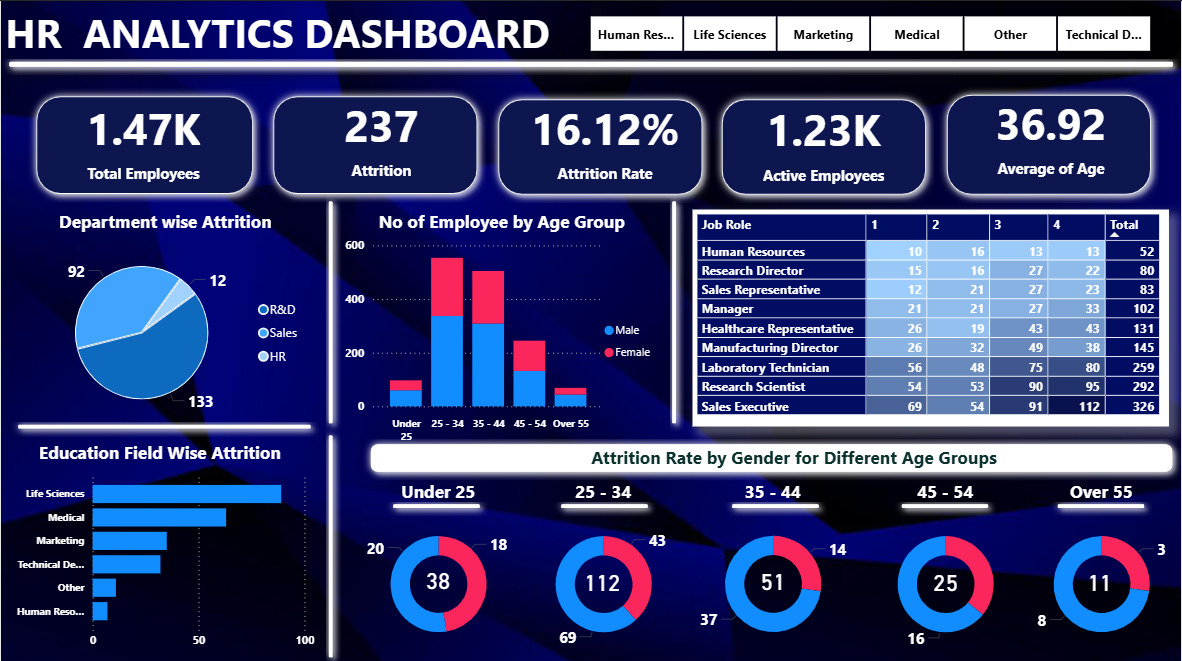

This screenshot's page, from the dashboard's own definition file:
{"tool":"powerbi","page":{"name":"HR Dashboard","canvas":[1280,720],"ordinal":0},"visuals":[{"type":"shape","box":[1017.2,93.3,239.3,126.4],"z":0},{"type":"shape","box":[773.1,97.5,239.3,121.5],"z":1000},{"type":"shape","box":[529.6,98.2,239.3,121.5],"z":2000},{"type":"shape","box":[285.9,94.5,239.3,123.9],"z":3000},{"type":"shape","box":[29,94.5,252.8,123.9],"z":4000},{"type":"cardVisual","fields":{"Data":["Sum(HR data.Employee Count)"]},"box":[38,85.9,234.4,131.3],"z":5000},{"type":"cardVisual","fields":{"Data":["Sum(HR data.Attrition Count)"]},"box":[326.4,81,171.8,133.7],"z":6000},{"type":"cardVisual","fields":{"Data":["HR data.Attrition Rate"]},"box":[547.2,85.9,217.2,130.1],"z":7000},{"type":"cardVisual","fields":{"Data":["HR data.Active Employees"]},"box":[782.8,85.9,219.6,133.7],"z":8000},{"type":"cardVisual","fields":{"Data":["Avg(HR data.Age)"]},"box":[1029.5,83.4,218.4,125.2],"z":9000},{"type":"pieChart","title":"Department wise Attrition","fields":{"Category":["HR data.Department"],"Y":["Sum(HR data.Attrition Count)"]},"box":[20.9,225.8,314.1,241.7],"z":10000},{"type":"columnChart","title":"No of Employee by Age Group","fields":{"Category":["HR data.CF_age band"],"Y":["Sum(HR data.Employee Count)"],"Series":["HR data.Gender"]},"box":[368.1,225.8,350.9,260.1],"z":11000},{"type":"pivotTable","fields":{"Rows":["HR data.Job Role"],"Columns":["HR data.Job Satisfaction"],"Values":["Sum(HR data.Employee Count)"]},"box":[749.7,225.8,516.6,235.6],"z":12000},{"type":"barChart","title":"Education Field Wise Attrition","fields":{"Category":["HR data.Education Field"],"Y":["Sum(HR data.Attrition Count)"]},"box":[0,477.3,344.8,234.4],"z":13000},{"type":"donutChart","title":"Under 25","fields":{"Category":["HR data.Gender"],"Y":["Sum(HR data.Attrition Count)"],"Series":["HR data.CF_age band"]},"box":[386.9,518.7,174.2,201.5],"z":14000},{"type":"donutChart","title":"25 - 34","fields":{"Category":["HR data.Gender"],"Y":["Sum(HR data.Attrition Count)"],"Series":["HR data.CF_age band"]},"box":[566.7,518.7,174.3,201.7],"z":15000},{"type":"donutChart","title":"35 - 44","fields":{"Category":["HR data.Gender"],"Y":["Sum(HR data.Attrition Count)"],"Series":["HR data.CF_age band"]},"box":[749.7,519,174.2,201.2],"z":16000},{"type":"donutChart","title":"45 - 54","fields":{"Category":["HR data.Gender"],"Y":["Sum(HR data.Attrition Count)"],"Series":["HR data.CF_age band"]},"box":[937.2,518.7,174.3,201.7],"z":17000},{"type":"donutChart","title":"Over 55","fields":{"Category":["HR data.Gender"],"Y":["Sum(HR data.Attrition Count)"],"Series":["HR data.CF_age band"]},"box":[1106,518.7,174.3,201.7],"z":18000},{"type":"card","fields":{"Values":["Sum(HR data.Attrition Count)"]},"box":[448.7,603.8,49.4,48],"z":19000},{"type":"card","fields":{"Values":["Sum(HR data.Attrition Count)"]},"box":[627,606.1,50.3,47.9],"z":20000},{"type":"card","fields":{"Values":["Sum(HR data.Attrition Count)"]},"box":[812.3,604.9,49.1,47.9],"z":21000},{"type":"card","fields":{"Values":["Sum(HR data.Attrition Count)"]},"box":[998.8,606.1,50.3,47.9],"z":22000},{"type":"card","fields":{"Values":["Sum(HR data.Attrition Count)"]},"box":[1166.9,606.1,49.1,47.9],"z":23000},{"type":"textbox","box":[0,0,639.5,72.7],"z":24000},{"type":"slicer","fields":{"Values":["HR data.Education Field"]},"box":[603.7,0,676.1,71.2],"z":25000},{"type":"shape","box":[0,57.7,1279.8,23.3],"z":26000},{"type":"shape","box":[392.6,471.2,887.1,47.9],"z":27000},{"type":"textbox","box":[603.7,477.3,512.9,42.9],"z":28000},{"type":"shape","box":[417.2,537.4,111.7,22.1],"z":29000},{"type":"shape","box":[598.8,537.4,111.7,22.1],"z":30000},{"type":"shape","box":[784.1,537.4,111.7,22.1],"z":31000},{"type":"shape","box":[968.1,537.4,111.7,22.1],"z":32000},{"type":"shape","box":[1136.2,537.4,111.7,22.1],"z":33000},{"type":"shape","box":[346,208.6,22.1,258.9],"z":34000},{"type":"shape","box":[719,208.6,22.1,258.9],"z":35000},{"type":"shape","box":[9.8,450.3,335,22.1],"z":36000},{"type":"shape","box":[346,461.4,22.1,258.9],"z":37000}]}

Visuals, with their boxes in screenshot pixels (x1, y1, x2, y2), scaled from the page's 1280x720 canvas onto the 1182x661 screenshot:
shape: x1=939 y1=86 x2=1160 y2=202
shape: x1=714 y1=90 x2=935 y2=201
shape: x1=489 y1=90 x2=710 y2=202
shape: x1=264 y1=87 x2=485 y2=201
shape: x1=27 y1=87 x2=260 y2=201
cardVisual - Sum(HR data.Employee Count): x1=35 y1=79 x2=252 y2=199
cardVisual - Sum(HR data.Attrition Count): x1=301 y1=74 x2=460 y2=197
cardVisual - HR data.Attrition Rate: x1=505 y1=79 x2=706 y2=198
cardVisual - HR data.Active Employees: x1=723 y1=79 x2=926 y2=202
cardVisual - Avg(HR data.Age): x1=951 y1=77 x2=1152 y2=192
"Department wise Attrition" pieChart: x1=19 y1=207 x2=309 y2=429
"No of Employee by Age Group" columnChart: x1=340 y1=207 x2=664 y2=446
pivotTable - HR data.Job Role x HR data.Job Satisfaction: x1=692 y1=207 x2=1169 y2=424
"Education Field Wise Attrition" barChart: x1=0 y1=438 x2=318 y2=653
"Under 25" donutChart: x1=357 y1=476 x2=518 y2=660
"25 - 34" donutChart: x1=523 y1=476 x2=684 y2=660
"35 - 44" donutChart: x1=692 y1=476 x2=853 y2=660
"45 - 54" donutChart: x1=865 y1=476 x2=1026 y2=660
"Over 55" donutChart: x1=1021 y1=476 x2=1181 y2=660
card - Sum(HR data.Attrition Count): x1=414 y1=554 x2=460 y2=598
card - Sum(HR data.Attrition Count): x1=579 y1=556 x2=625 y2=600
card - Sum(HR data.Attrition Count): x1=750 y1=555 x2=795 y2=599
card - Sum(HR data.Attrition Count): x1=922 y1=556 x2=969 y2=600
card - Sum(HR data.Attrition Count): x1=1078 y1=556 x2=1123 y2=600
textbox: x1=0 y1=0 x2=591 y2=67
slicer - HR data.Education Field: x1=557 y1=0 x2=1181 y2=65
shape: x1=0 y1=53 x2=1181 y2=74
shape: x1=363 y1=433 x2=1181 y2=477
textbox: x1=557 y1=438 x2=1031 y2=478
shape: x1=385 y1=493 x2=488 y2=514
shape: x1=553 y1=493 x2=656 y2=514
shape: x1=724 y1=493 x2=827 y2=514
shape: x1=894 y1=493 x2=997 y2=514
shape: x1=1049 y1=493 x2=1152 y2=514
shape: x1=320 y1=192 x2=340 y2=429
shape: x1=664 y1=192 x2=684 y2=429
shape: x1=9 y1=413 x2=318 y2=434
shape: x1=320 y1=424 x2=340 y2=660
